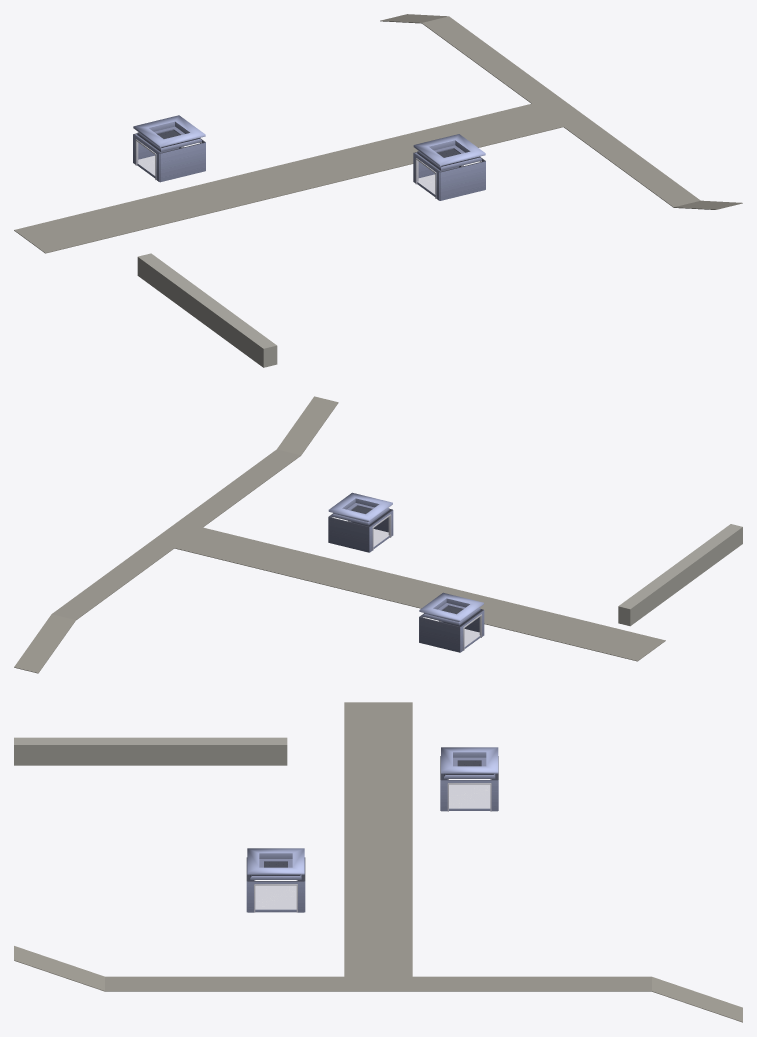
File: town-0-1.glb
The picture shows the model from 3 angles, top to bottom: view 1: azimuth 30°, elevation 25°; view 2: azimuth 150°, elevation 25°; view 3: azimuth 270°, elevation 25°; orthographic projection. The views are drawn at different scales.
Visible parts, largest first — view 1: town-0-1; view 2: town-0-1; view 3: town-0-1.
Boxes of the visible parts, <box> form: town-0-1: <box>14,14,742,367</box>; town-0-1: <box>14,396,742,673</box>; town-0-1: <box>14,702,742,1022</box>.
Bounding box in the file's own units: 120 × 13.7 × 128.
19 materials, 16 textured.
